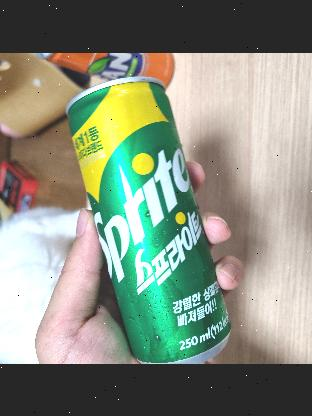Can: (68, 79, 230, 358)
